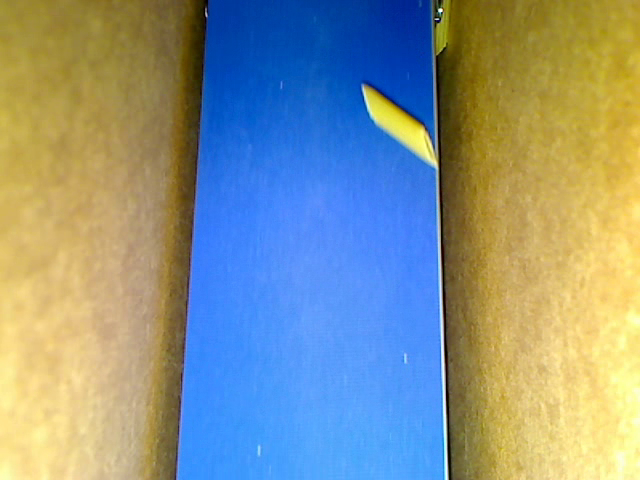penne: (360, 82, 440, 169), (431, 1, 449, 55)
